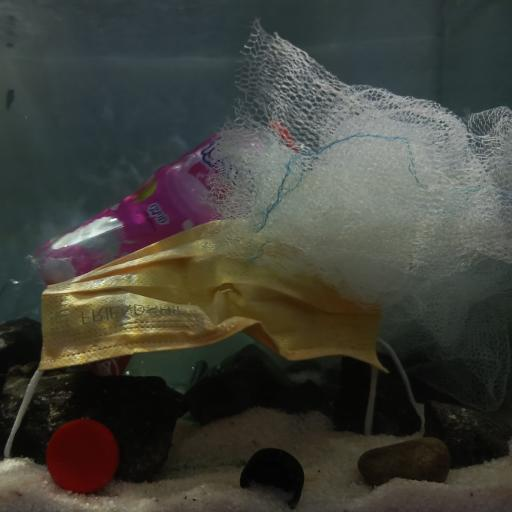bottle_cap: (44, 416, 120, 494), (240, 447, 305, 509)
mask: (34, 216, 404, 390)
net: (201, 14, 512, 413)
plastic_bottle: (24, 118, 306, 286), (2, 254, 208, 388)
